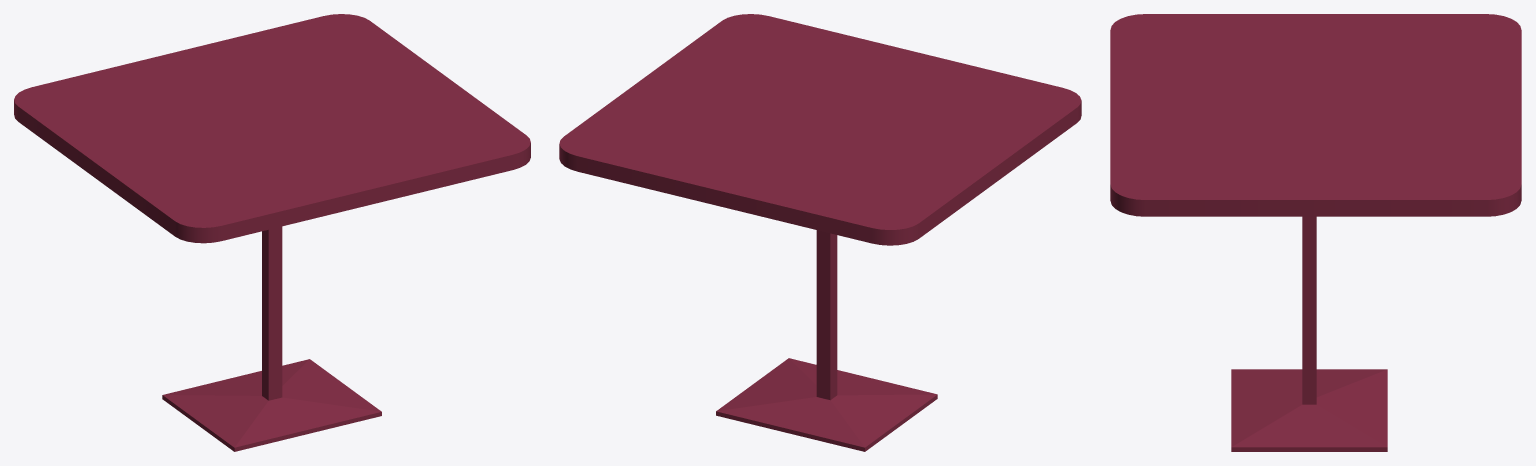
File: plane.149_lev3.glb
3 renders of one model, left to right at view 1: azimuth 30°, elevation 25°; view 2: azimuth 150°, elevation 25°; view 3: azimuth 270°, elevation 25°, orthographic. The views are drawn at different scales.
Parts seen in each view (by area): view 1: plane.149_lev3; view 2: plane.149_lev3; view 3: plane.149_lev3.
Part boxes in pixels (left/top/right/bottom): plane.149_lev3: left=14, top=14, right=530, bottom=451; plane.149_lev3: left=559, top=14, right=1081, bottom=451; plane.149_lev3: left=1110, top=14, right=1521, bottom=451.
Bounding box in the file's own units: 0.7174 × 0.553 × 0.6695.
